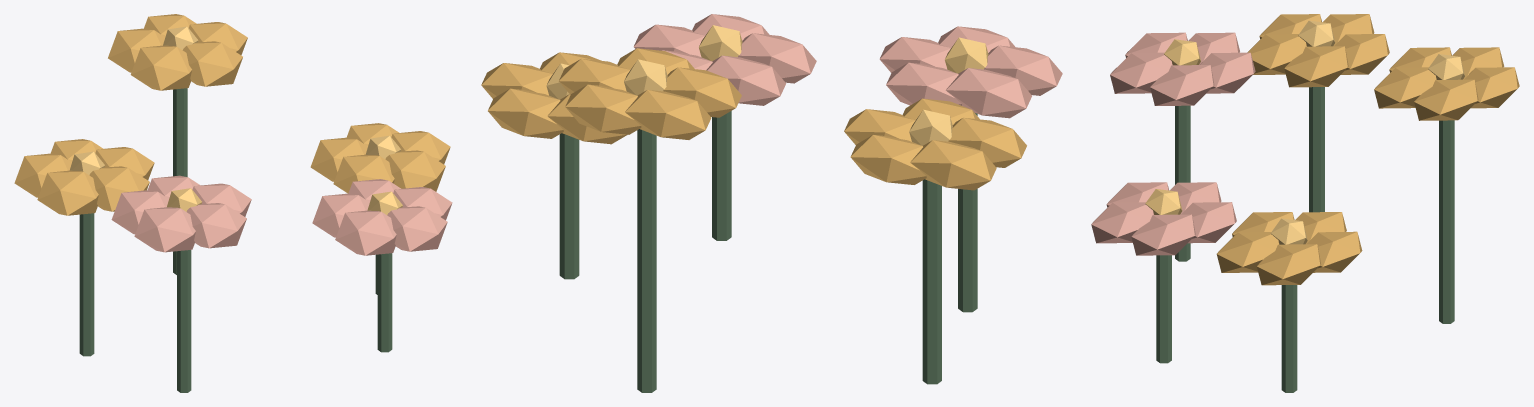
The model's file is kvetiny.glb.
3 renders of one model, left to right at view 1: azimuth 30°, elevation 25°; view 2: azimuth 150°, elevation 25°; view 3: azimuth 270°, elevation 25°, orthographic. The views are drawn at different scales.
Visible parts, largest first — view 1: material_e5b66a, material_eab3a5, material_68866b, material_ffd68a; view 2: material_e5b66a, material_eab3a5, material_68866b, material_ffd68a; view 3: material_e5b66a, material_eab3a5, material_68866b, material_ffd68a.
Boxes of the visible parts, left/top/right/bottom form: material_e5b66a: left=14, top=14, right=450, bottom=215; material_eab3a5: left=111, top=175, right=452, bottom=255; material_68866b: left=79, top=88, right=392, bottom=392; material_ffd68a: left=69, top=26, right=402, bottom=214; material_e5b66a: left=481, top=48, right=1026, bottom=190; material_eab3a5: left=633, top=14, right=1062, bottom=118; material_68866b: left=559, top=111, right=977, bottom=392; material_ffd68a: left=546, top=25, right=988, bottom=145; material_e5b66a: left=1216, top=14, right=1519, bottom=285; material_eab3a5: left=1091, top=32, right=1255, bottom=255; material_68866b: left=1156, top=87, right=1454, bottom=392; material_ffd68a: left=1145, top=20, right=1464, bottom=244.
Bounding box in the file's own units: 0.9673 × 0.5566 × 0.8136.
